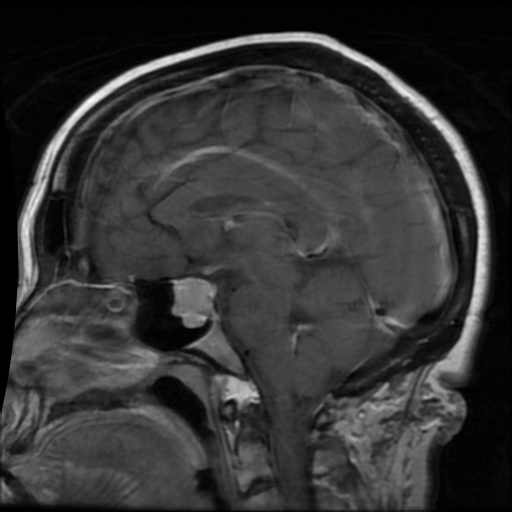pituitary: (172, 278, 214, 327)
